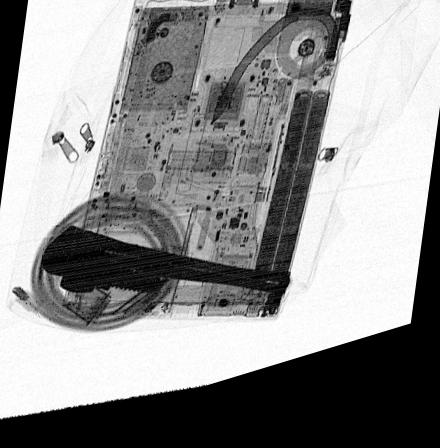Wrench: (40, 227, 291, 310)
